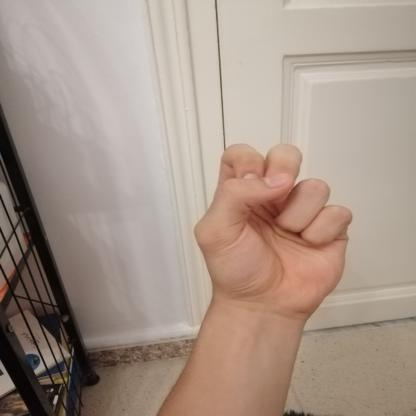QAAF: (175, 130, 374, 334)
